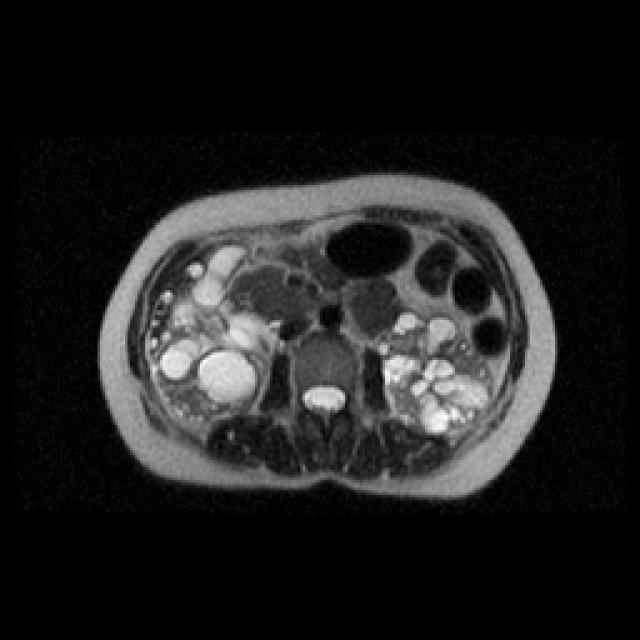sag: (156, 276, 272, 423)
sol: (377, 309, 490, 435)
